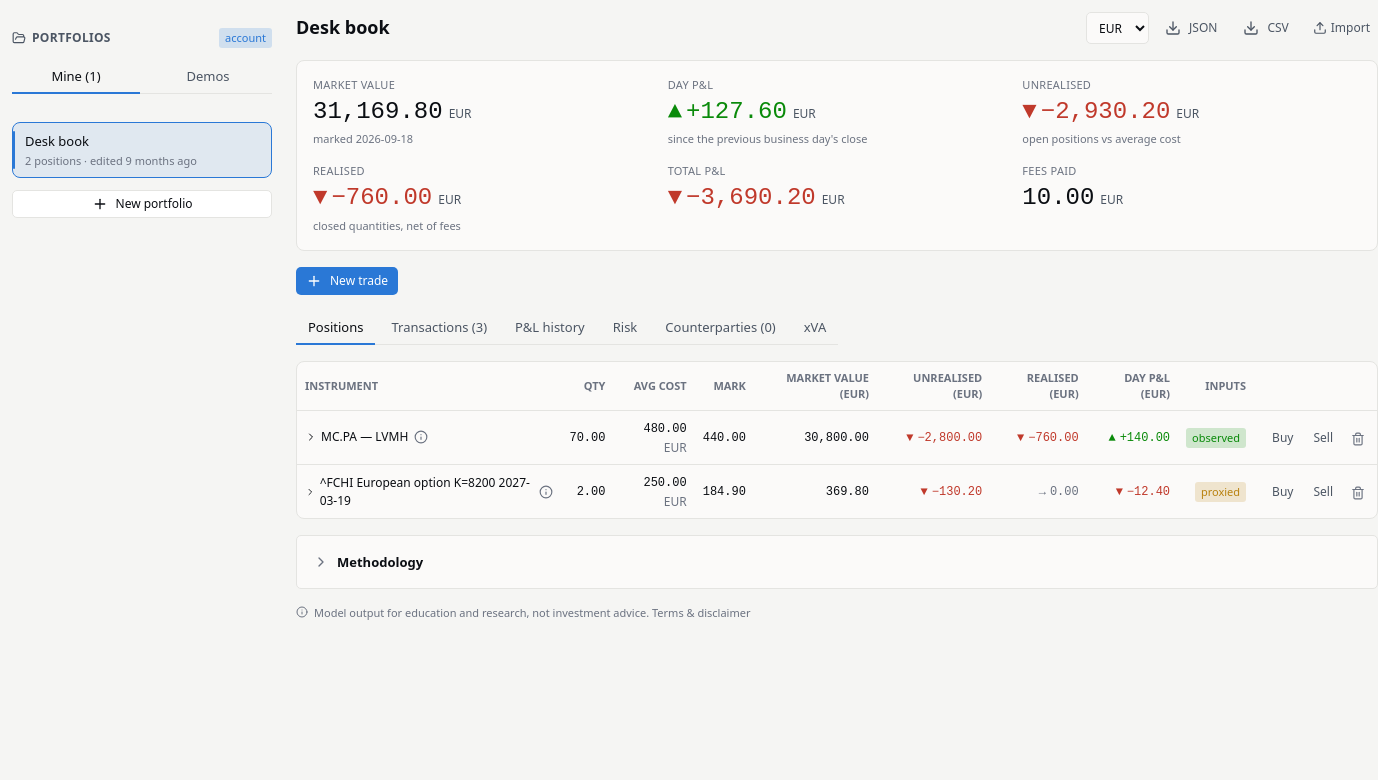
Scenario: portfolio page › lists positions with the status of their weakest input
Expected: the text "proxied" is shown, left=1195, top=482, right=1246, bottom=502
Click the button "^FCHI European option K=8200 2027-03-19": point(419, 492) left=305, top=474, right=534, bottom=509
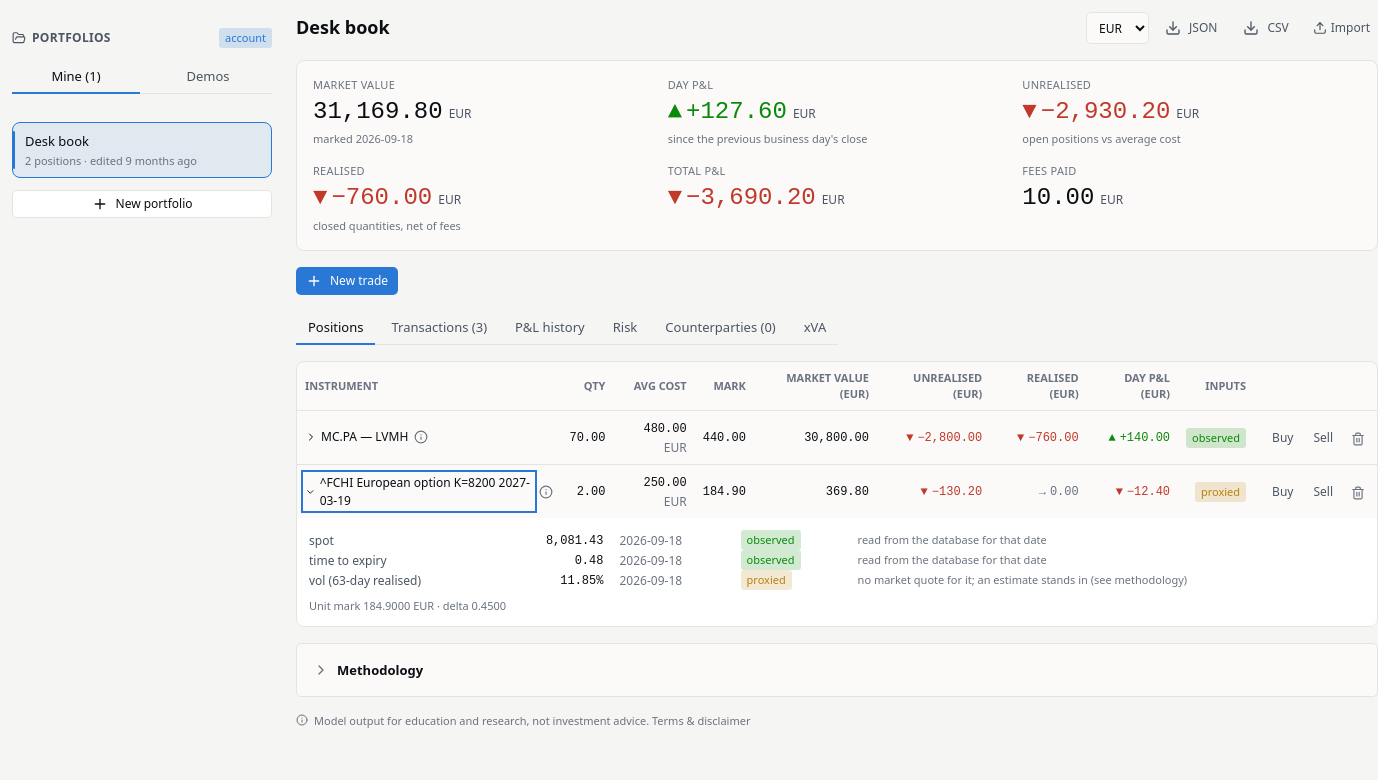
Result: the text "vol (63-day realised)" is shown at left=309, top=570, right=506, bottom=590
